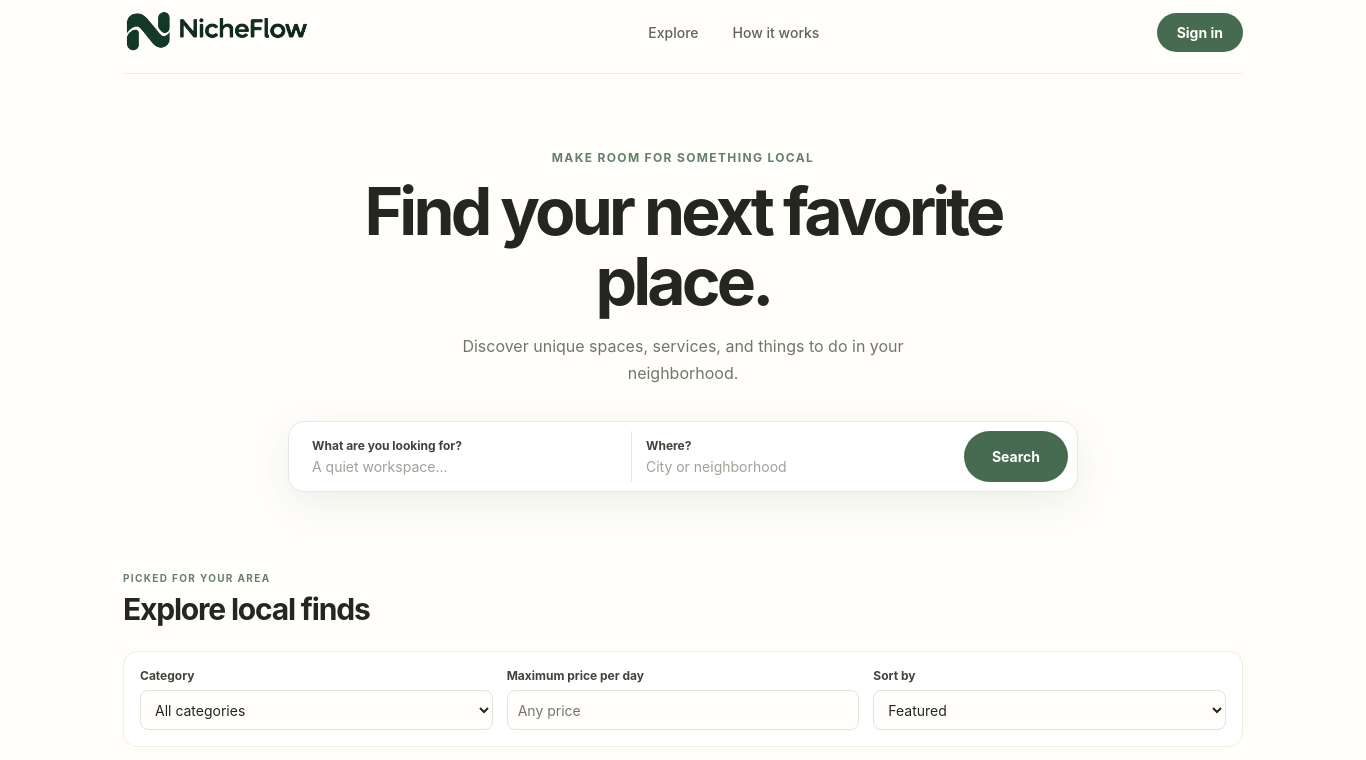
Scenario: NicheFlow landing page › filters by location and matches it together with the keyword
Type "dinner" into the search field labelled "What are you looking for?".
click(460, 467); type("dinner")  # box [312,458,609,475]
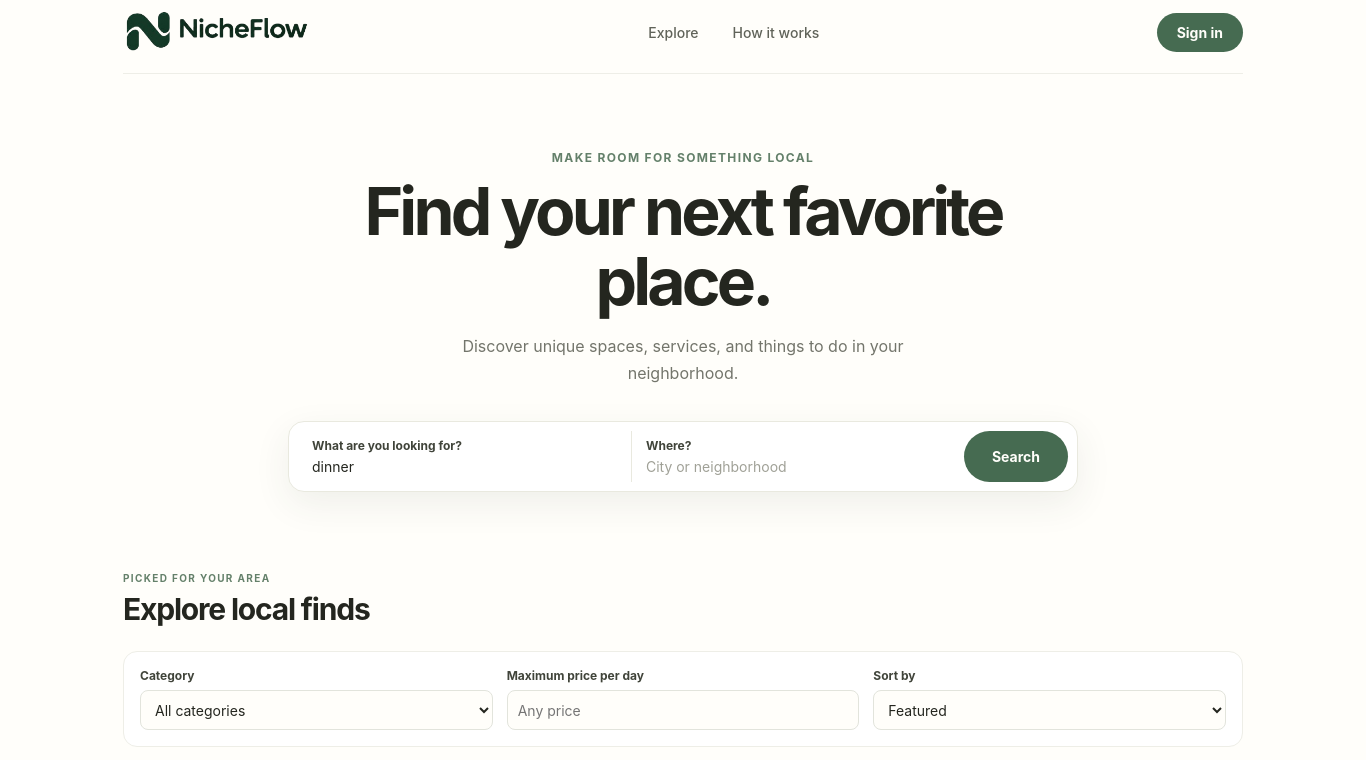
Type "airdrie" into the field labelled "Where?".
click(794, 467); type("airdrie")  # box [646,458,942,475]
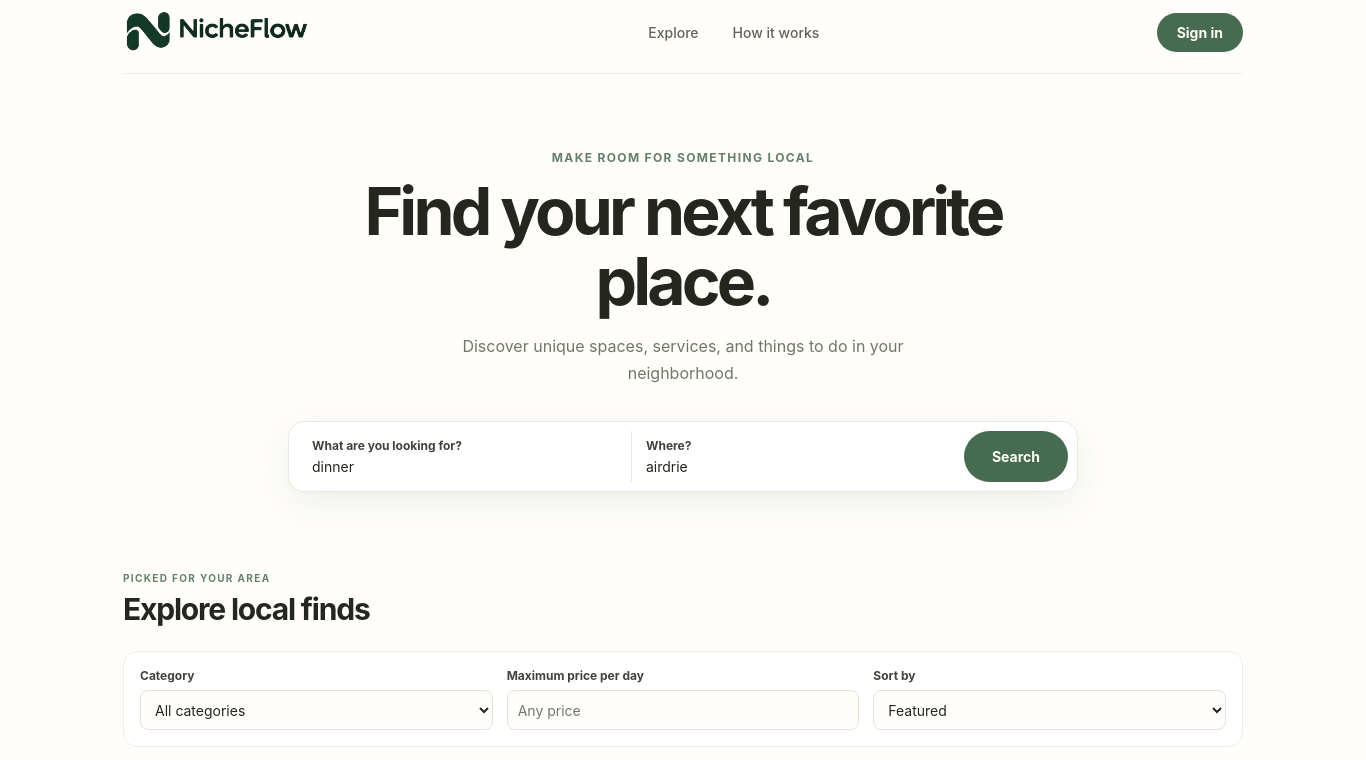
Click the button "Search".
click(1016, 457)  # box [964,431,1068,482]
(page scrolled)
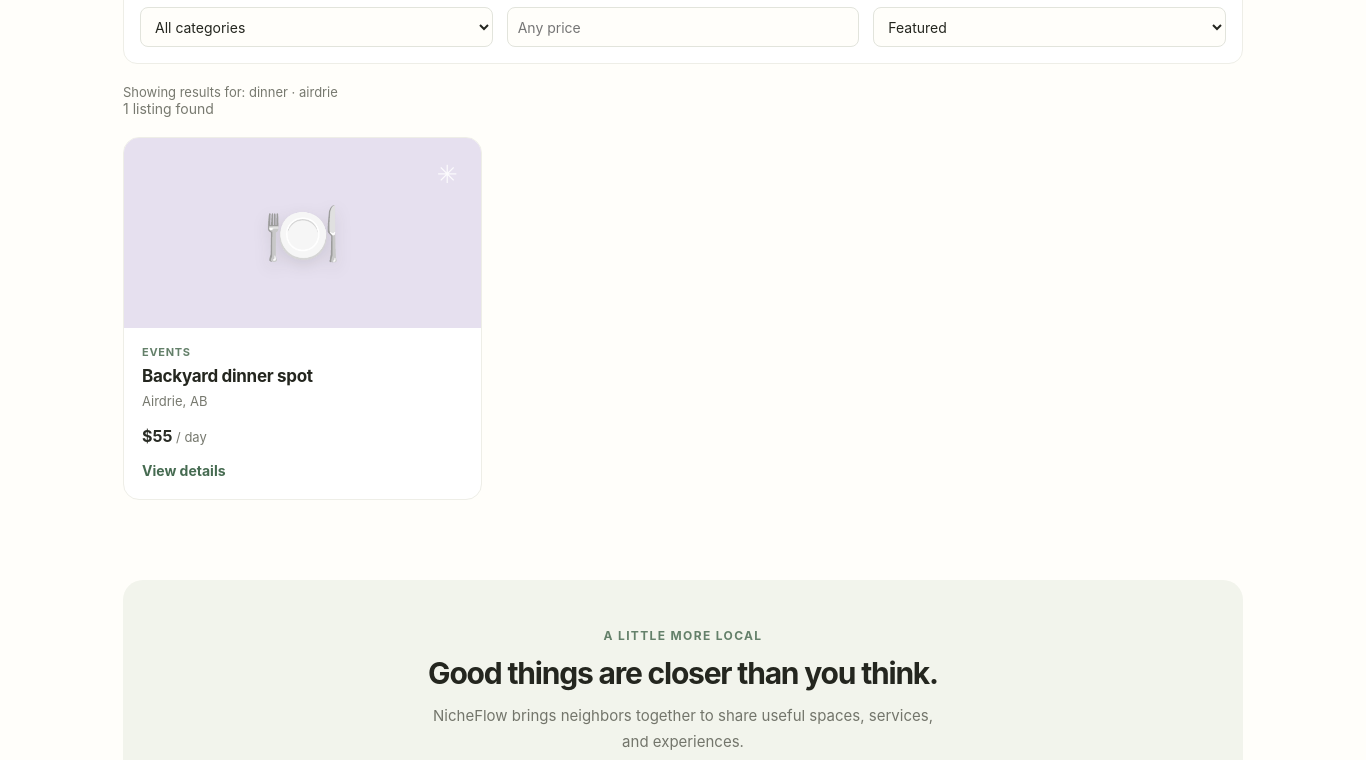
Result: the heading "Backyard dinner spot" is shown at [142,366,313,386]
